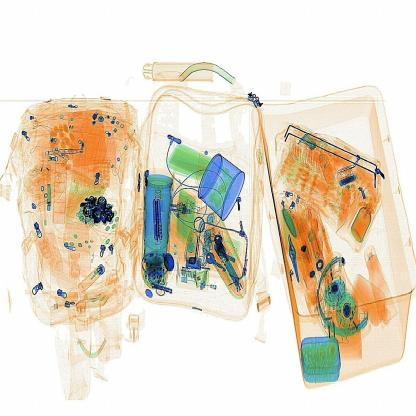scissors: (140, 187, 173, 249)
